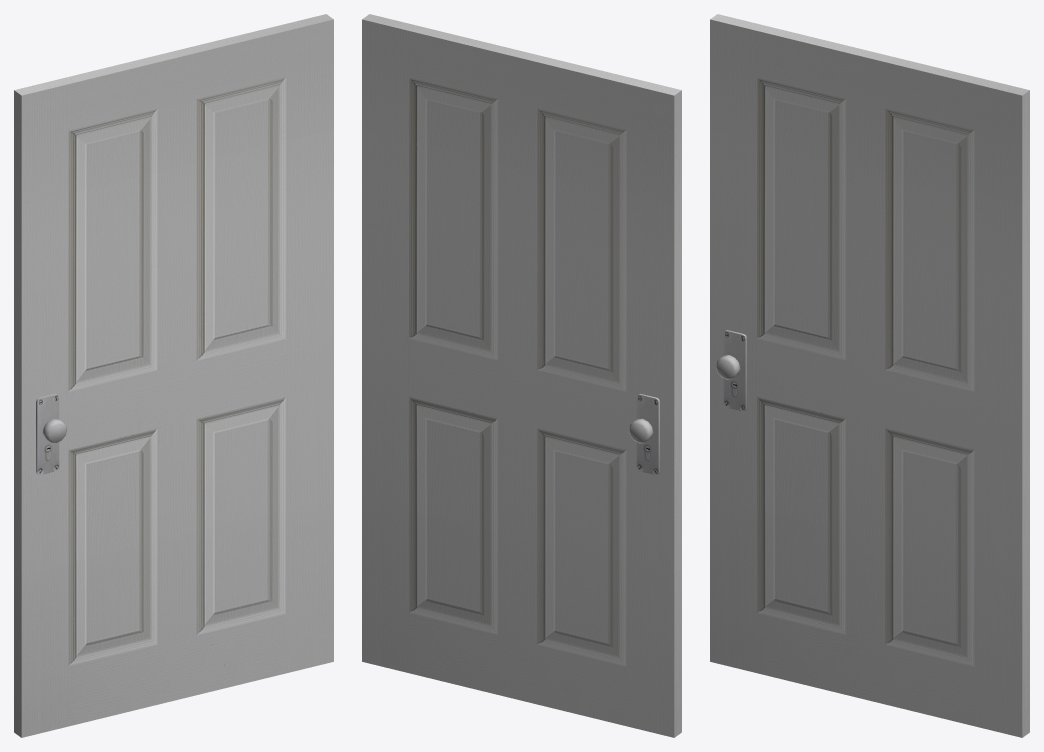
Rendered from mcp_building_01_door_01.FBX.
3 renders of one model, left to right at view 1: azimuth 30°, elevation 25°; view 2: azimuth 150°, elevation 25°; view 3: azimuth 330°, elevation 25°, orthographic.
Parts seen in each view (by area): view 1: mcp_building_01_door_01; view 2: mcp_building_01_door_01; view 3: mcp_building_01_door_01.
Boxes of the visible parts, bbox=[...] form: mcp_building_01_door_01: bbox=[14, 14, 333, 737]; mcp_building_01_door_01: bbox=[362, 14, 681, 737]; mcp_building_01_door_01: bbox=[710, 14, 1029, 737].
Size of the model in its own units: 147 by 23.19 by 289.
